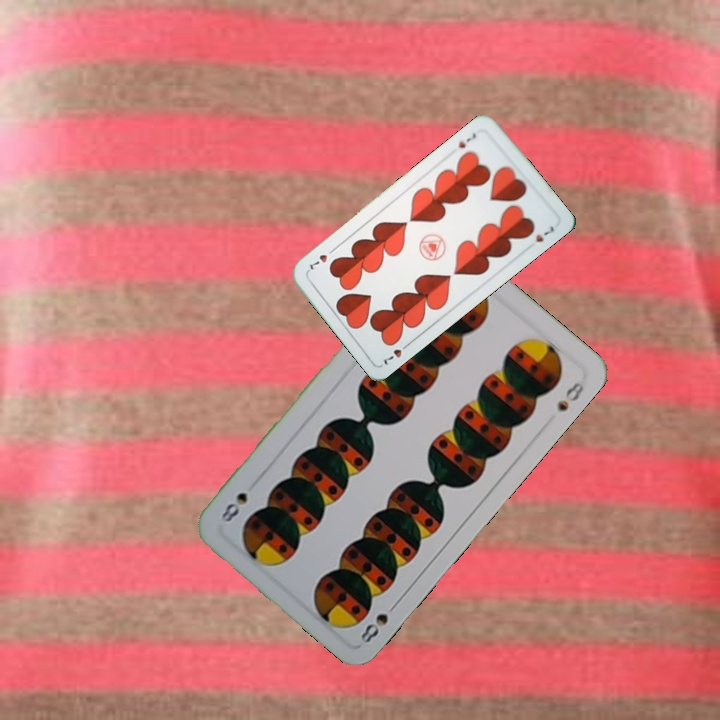H7: (380, 338, 413, 367), (454, 129, 479, 151)
S8: (356, 597, 401, 649)
